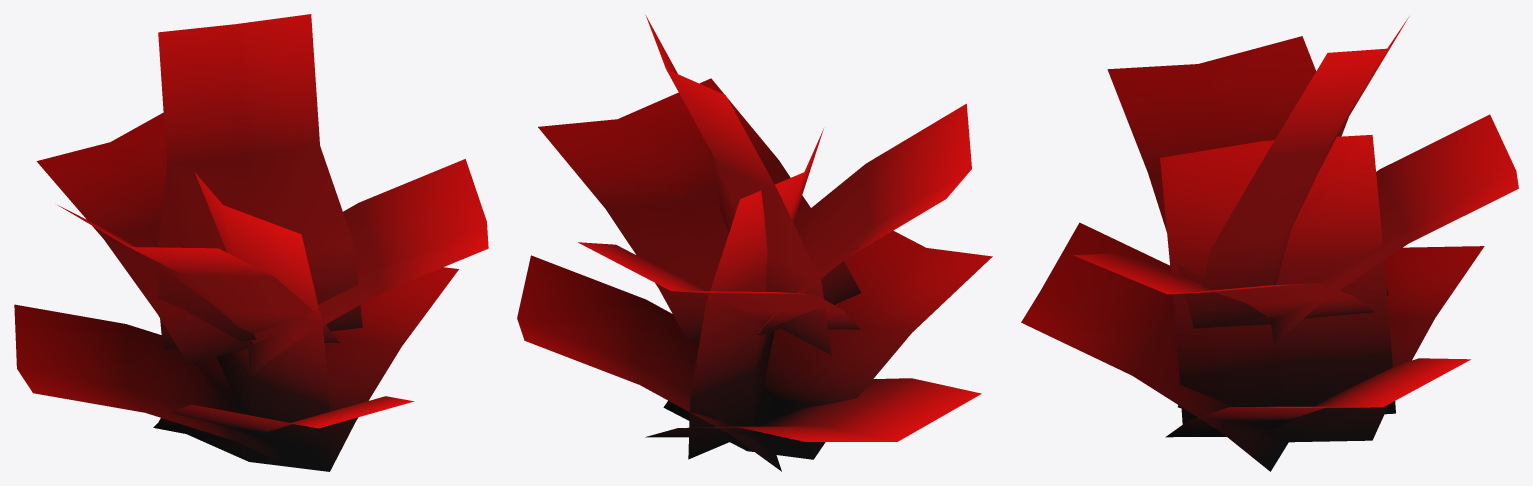
Rendered from SM_Bush3.fbx.
3 views of the same model, side by side, from view 1: azimuth 30°, elevation 25°; view 2: azimuth 150°, elevation 25°; view 3: azimuth 270°, elevation 25° (orthographic). The views are drawn at different scales.
Parts seen in each view (by area): view 1: Bush3; view 2: Bush3; view 3: Bush3.
Boxes of the visible parts, left/top/right/bottom form: Bush3: left=14, top=14, right=488, bottom=471; Bush3: left=517, top=15, right=992, bottom=471; Bush3: left=1021, top=16, right=1518, bottom=471.
Bounding box in the file's own units: 0.5256 × 0.48 × 0.5023.
